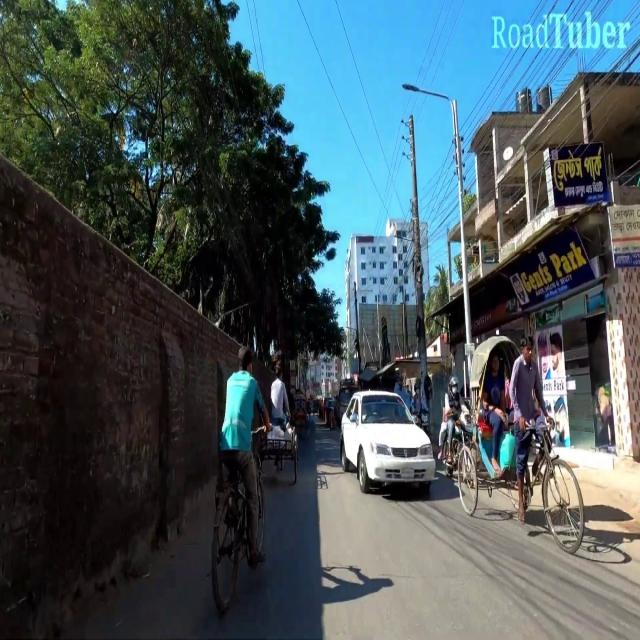white: (347, 381, 438, 505)
